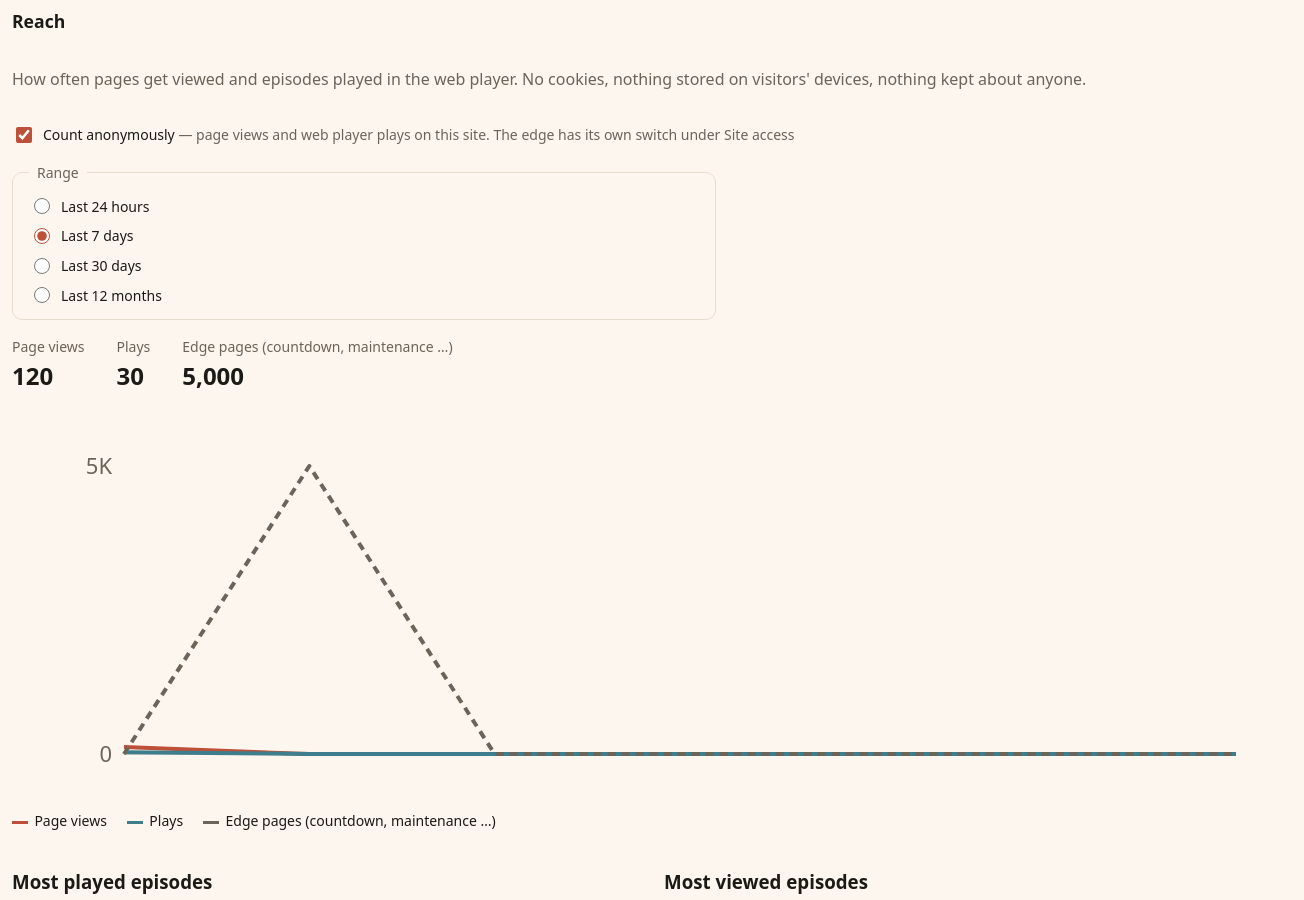
it: AdminReach › lets an admin switch counting off
The image size is (1304, 900).
Click the checkbox labelled "Count anonymously" at coordinates (24, 135), box [16,127,32,143]
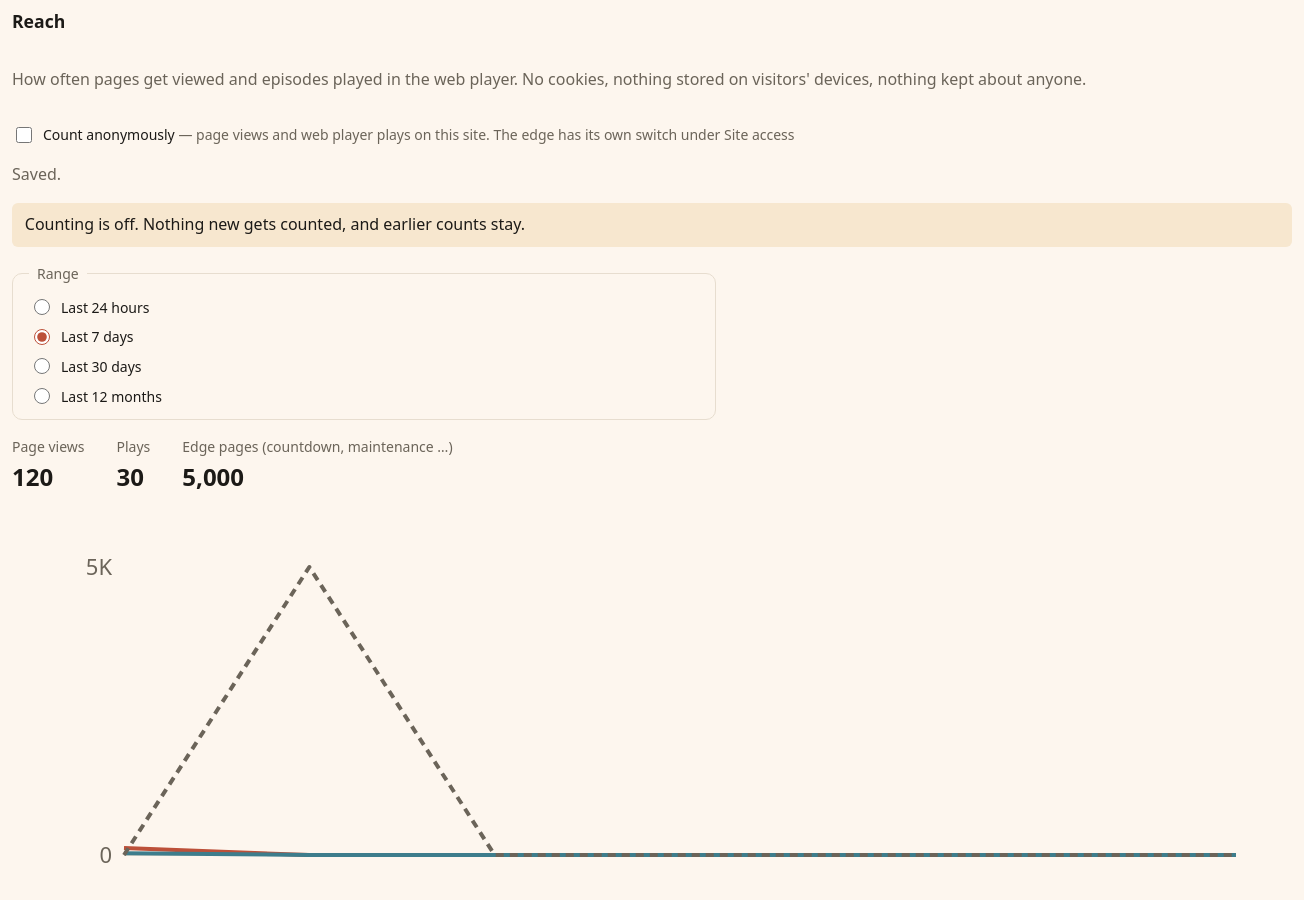
expect the text "Counting is off" is shown: met, box [25,214,525,236]
